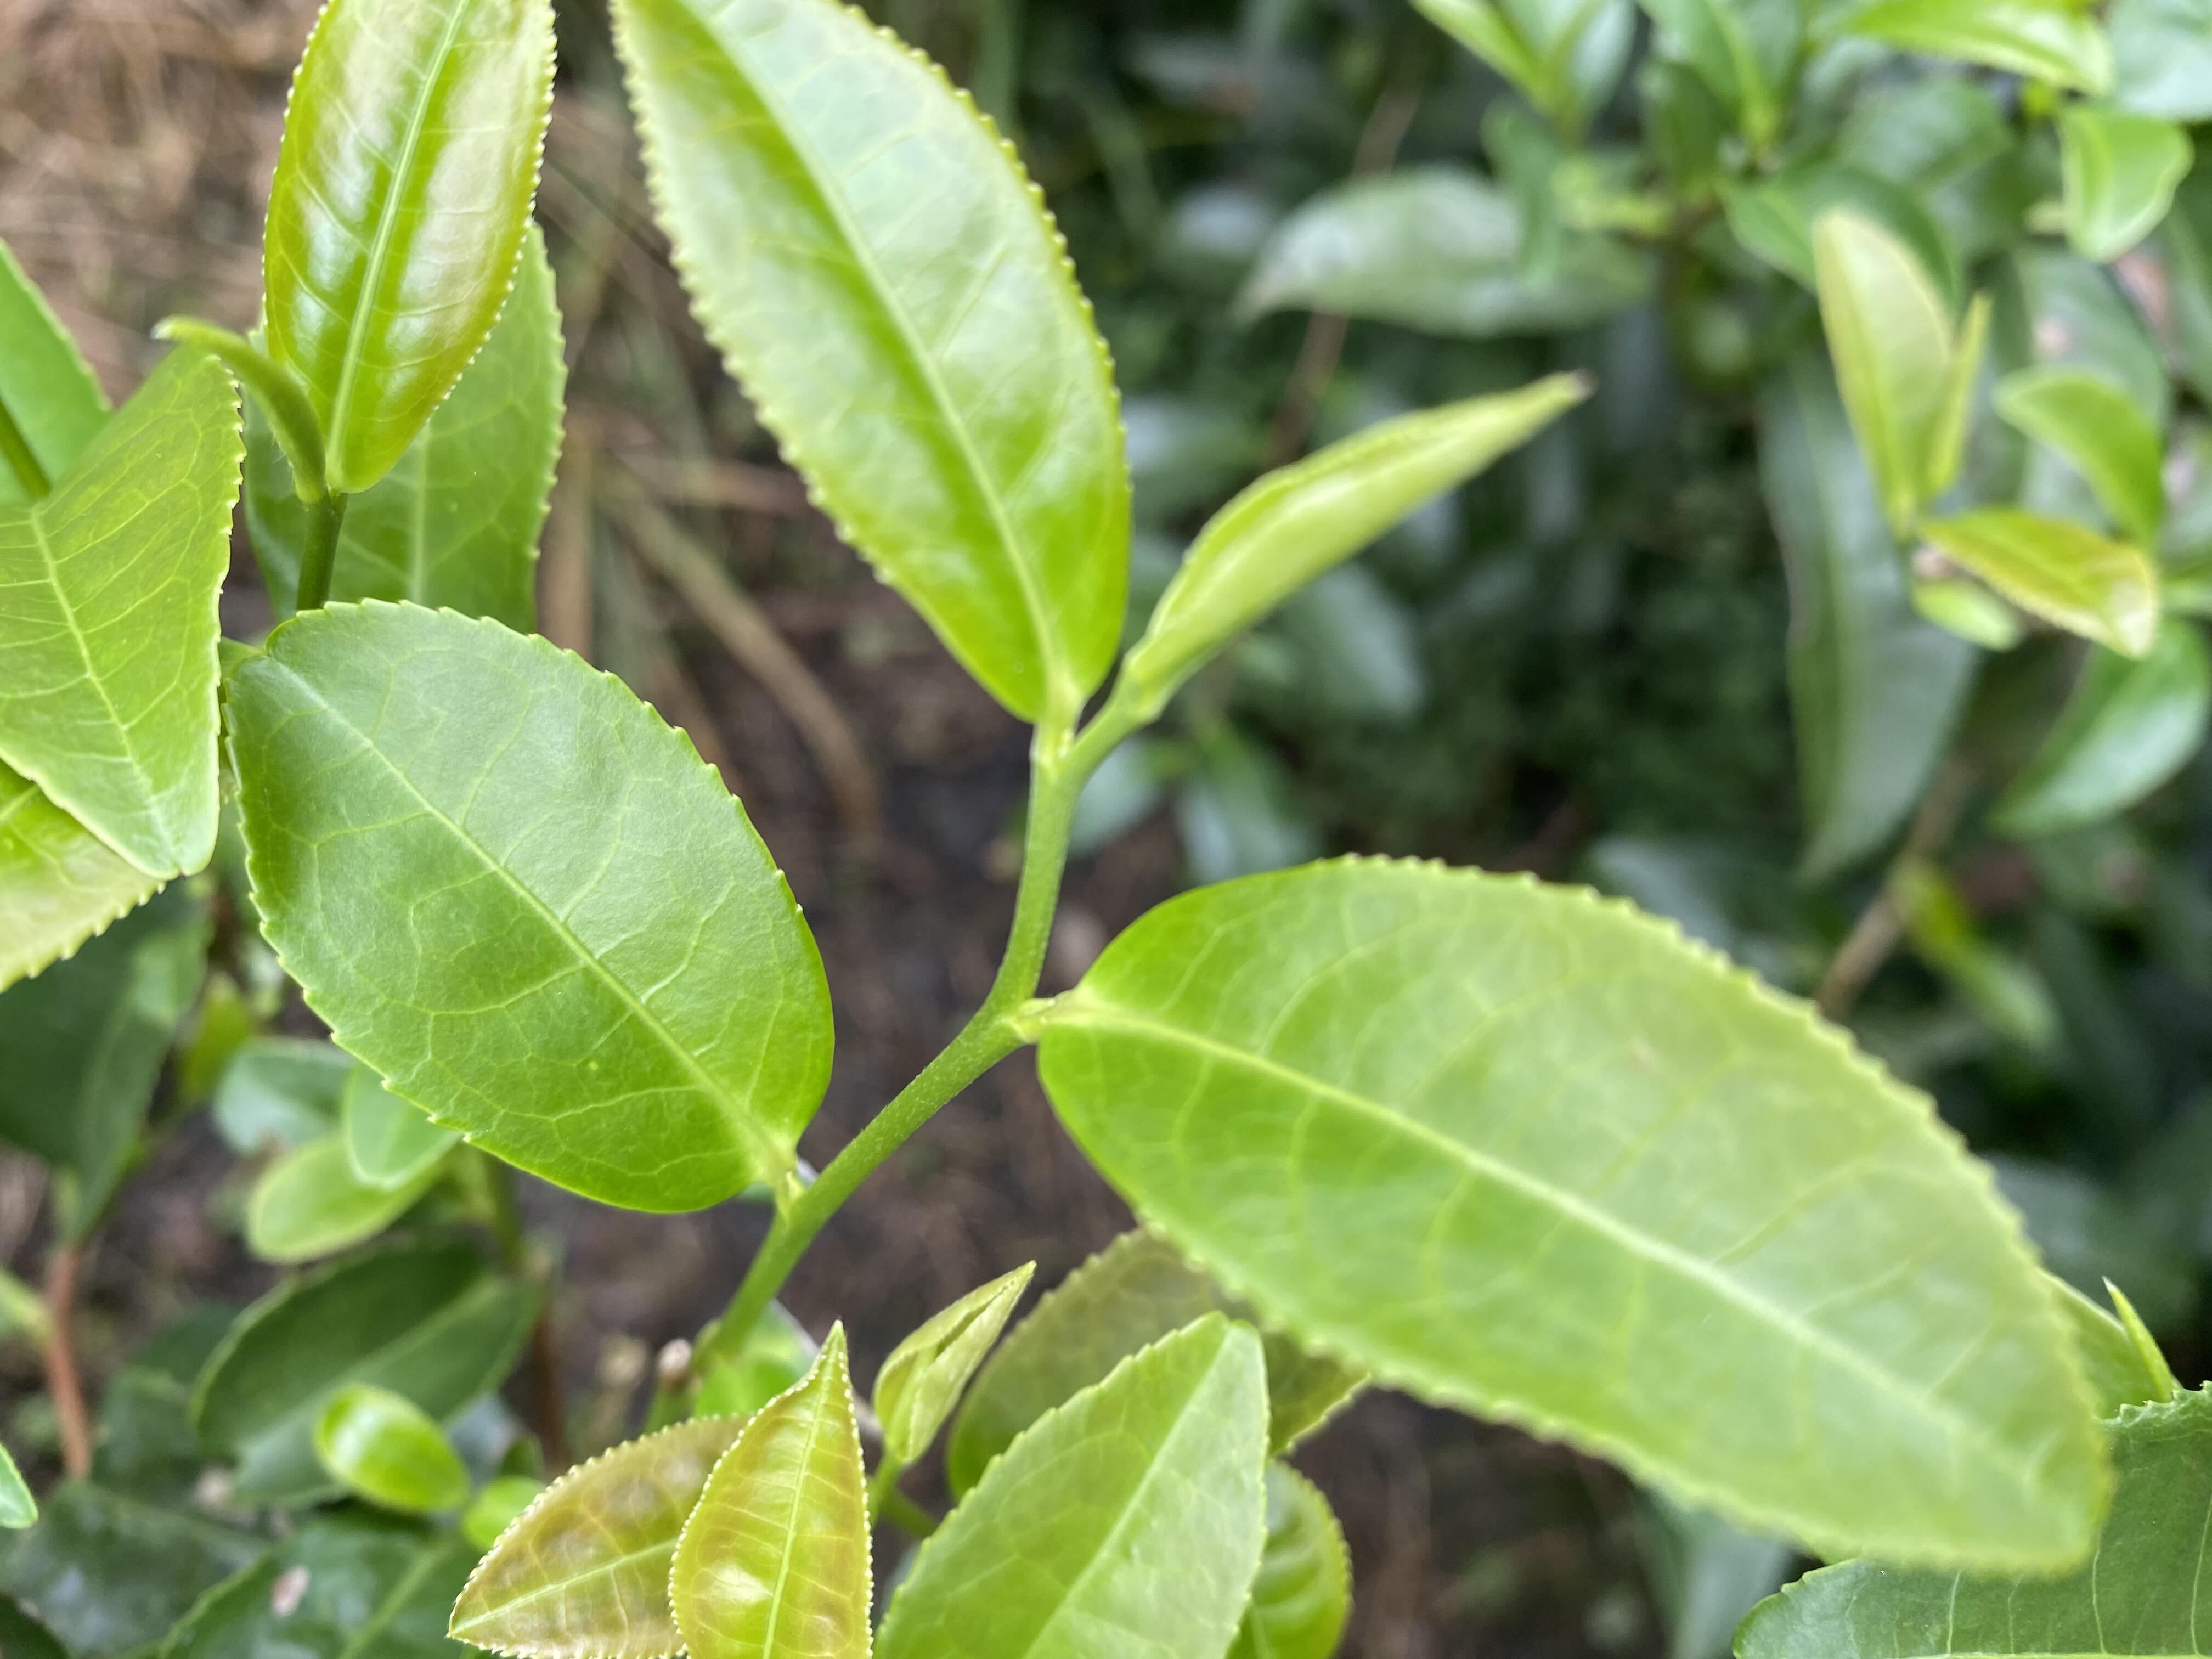healthy: (1031, 849, 2111, 1575), (603, 3, 1130, 723), (223, 598, 833, 1216), (256, 2, 559, 498), (876, 1310, 1275, 1656), (0, 350, 247, 884)
